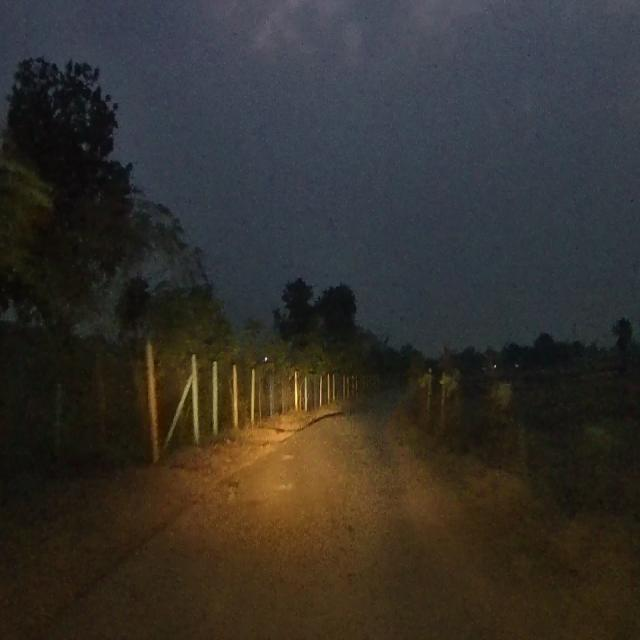barrier ahead at: (143, 344, 165, 466), (186, 348, 201, 442), (215, 353, 219, 434)
